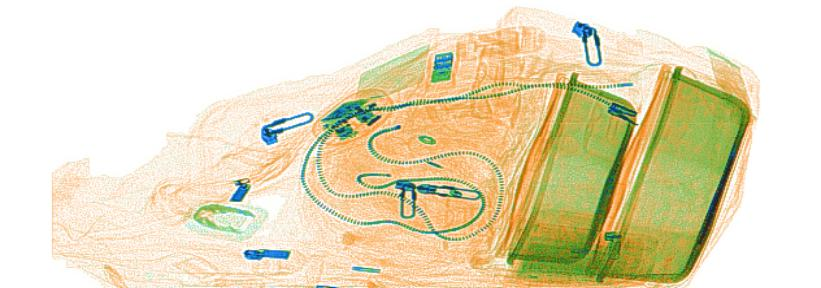USBFlashDisk: (430, 50, 453, 84)
